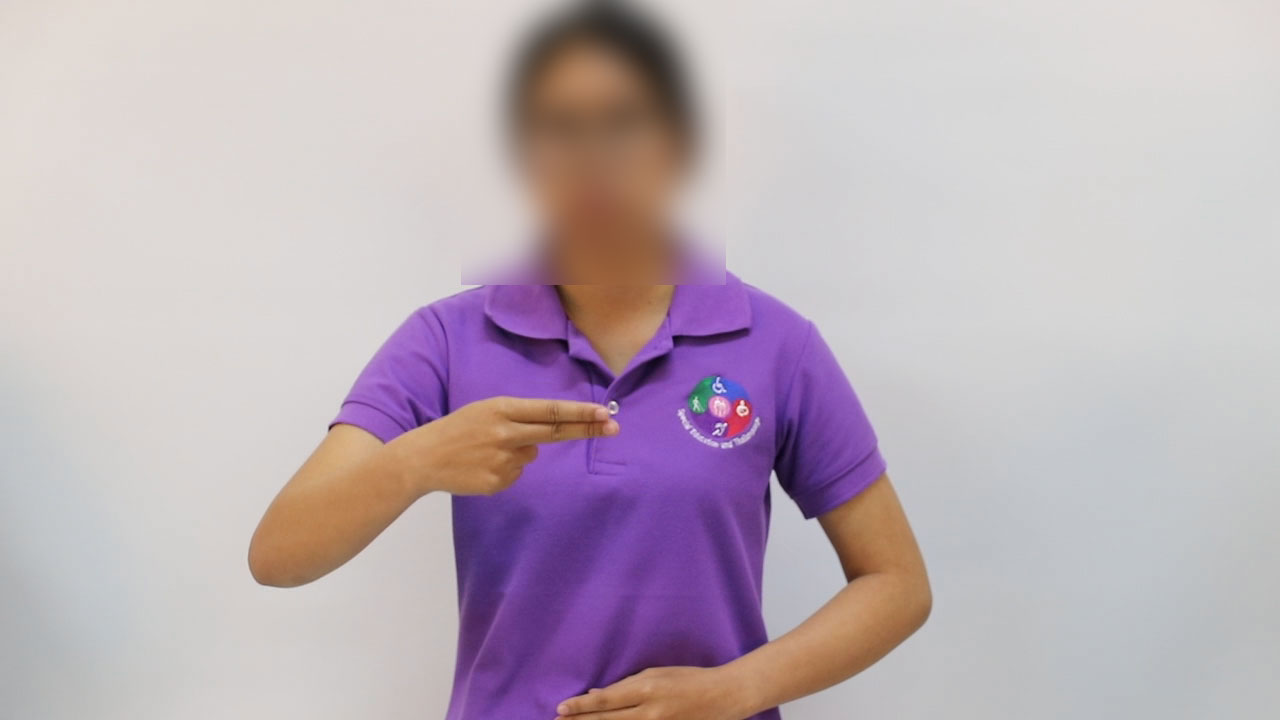hor: (400, 383, 631, 518)
